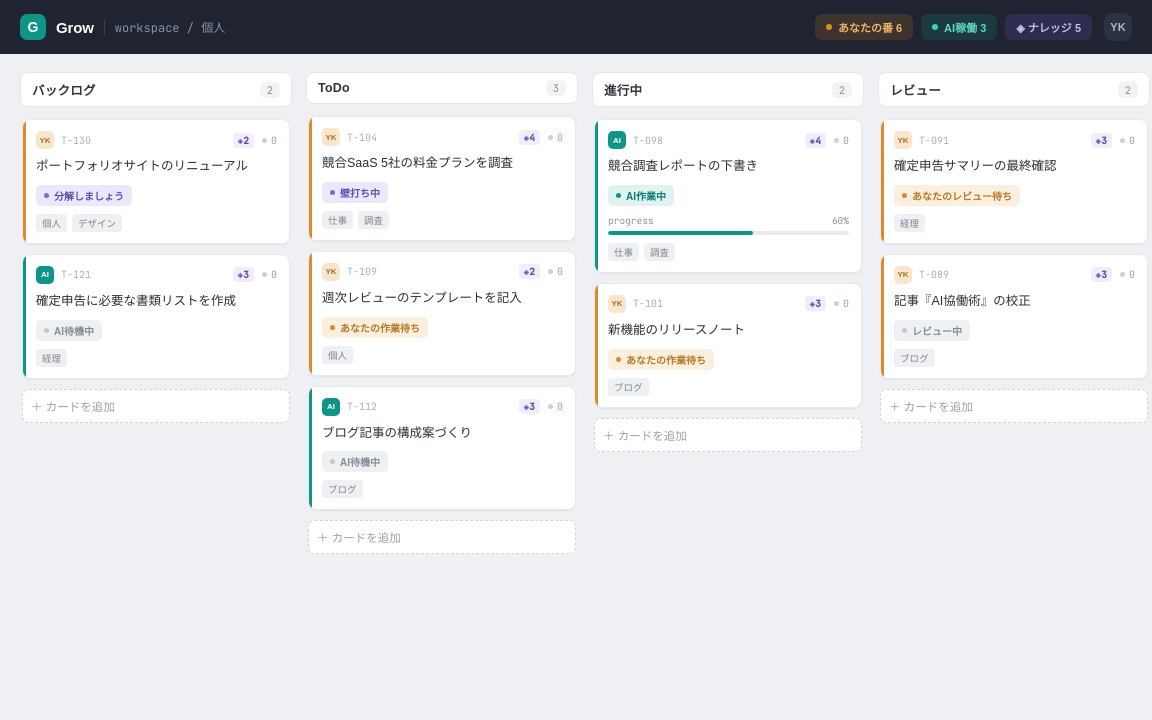
App › カードクリックでドロワーが開き、閉じる✕で閉じる（#7 DoD）
This screenshot has width=1152, height=720.
Click the text "競合調査レポートの下書き" at x=683, y=166, box [608,159,758,173]
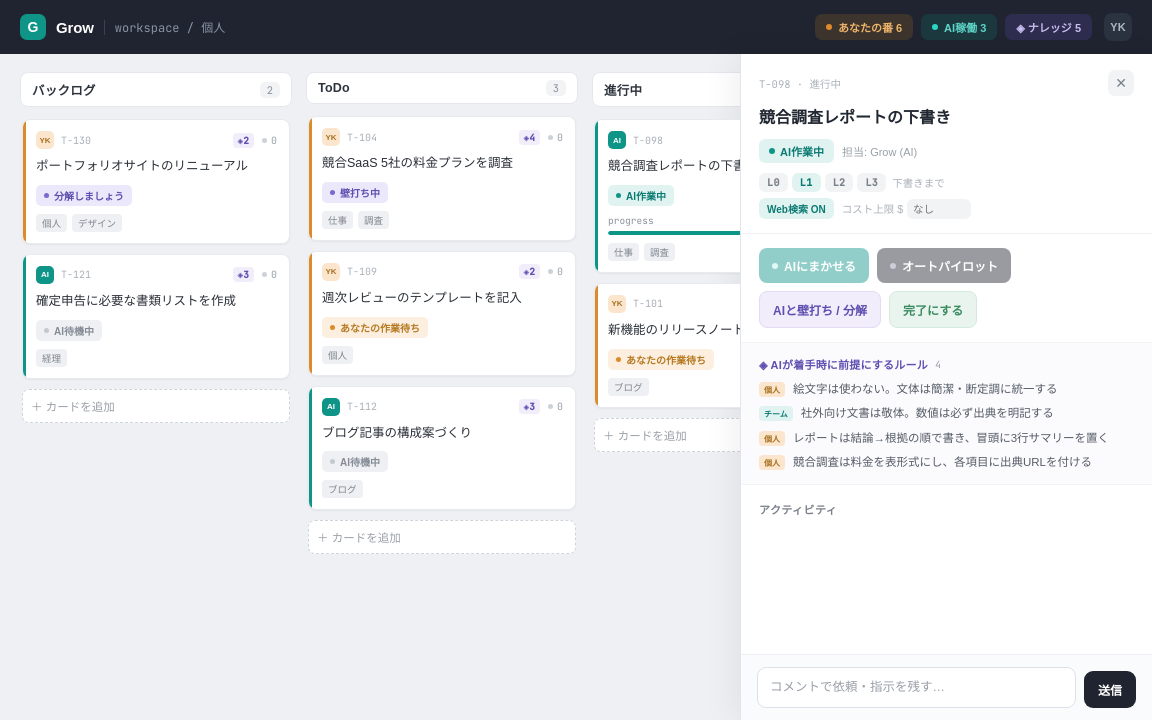
Result: the text "T-098 · 進行中" is shown at [759,76,841,90]
Result: the element with class "drawer" is shown at [740,54,1151,719]
Result: the text box with placeholder "コメントで依頼・指示を残す…" is shown at [757,667,1076,708]
Click the button named "閉じる" at x=1121, y=83, box [1108,70,1134,96]
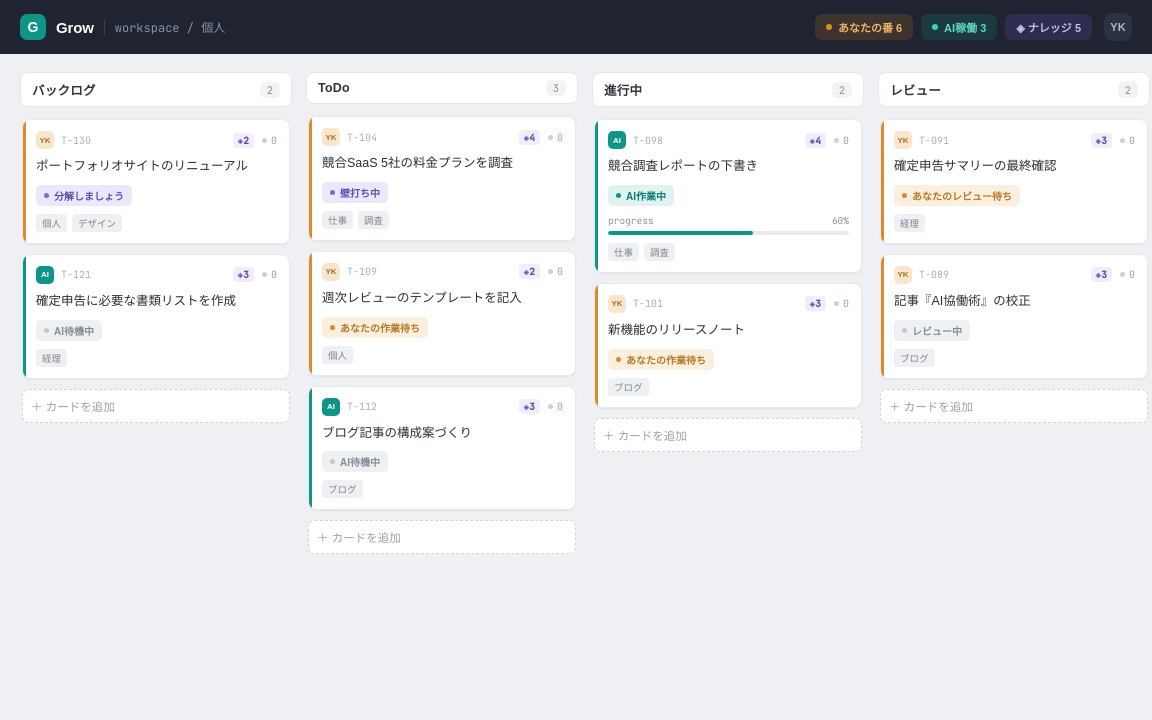
Result: the text "T-098 · 進行中" is gone
Result: the element with class "drawer" is gone
